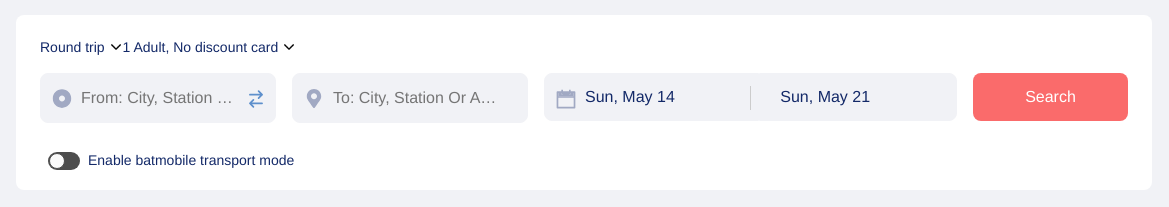
it: Searchbar Params › should show check when one-way is selected
The width and height of the screenshot is (1169, 207).
What coordinates should you click on to do the following:
click the button "Round trip"
I would click on:
 (80, 47)
Its box is [40,39,121,55].
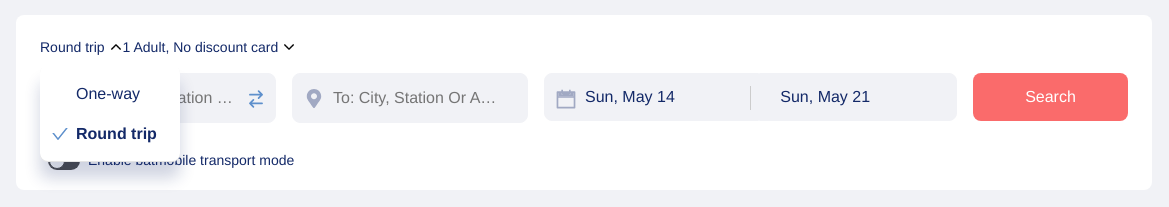
What coordinates should you click on to do the following:
click the text "One-way"
I would click on:
 (108, 94)
Its box is [76,85,140,103].
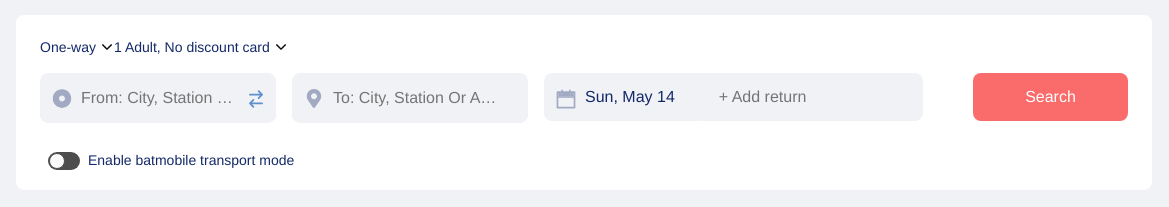
Check: the button "Round trip" is gone
